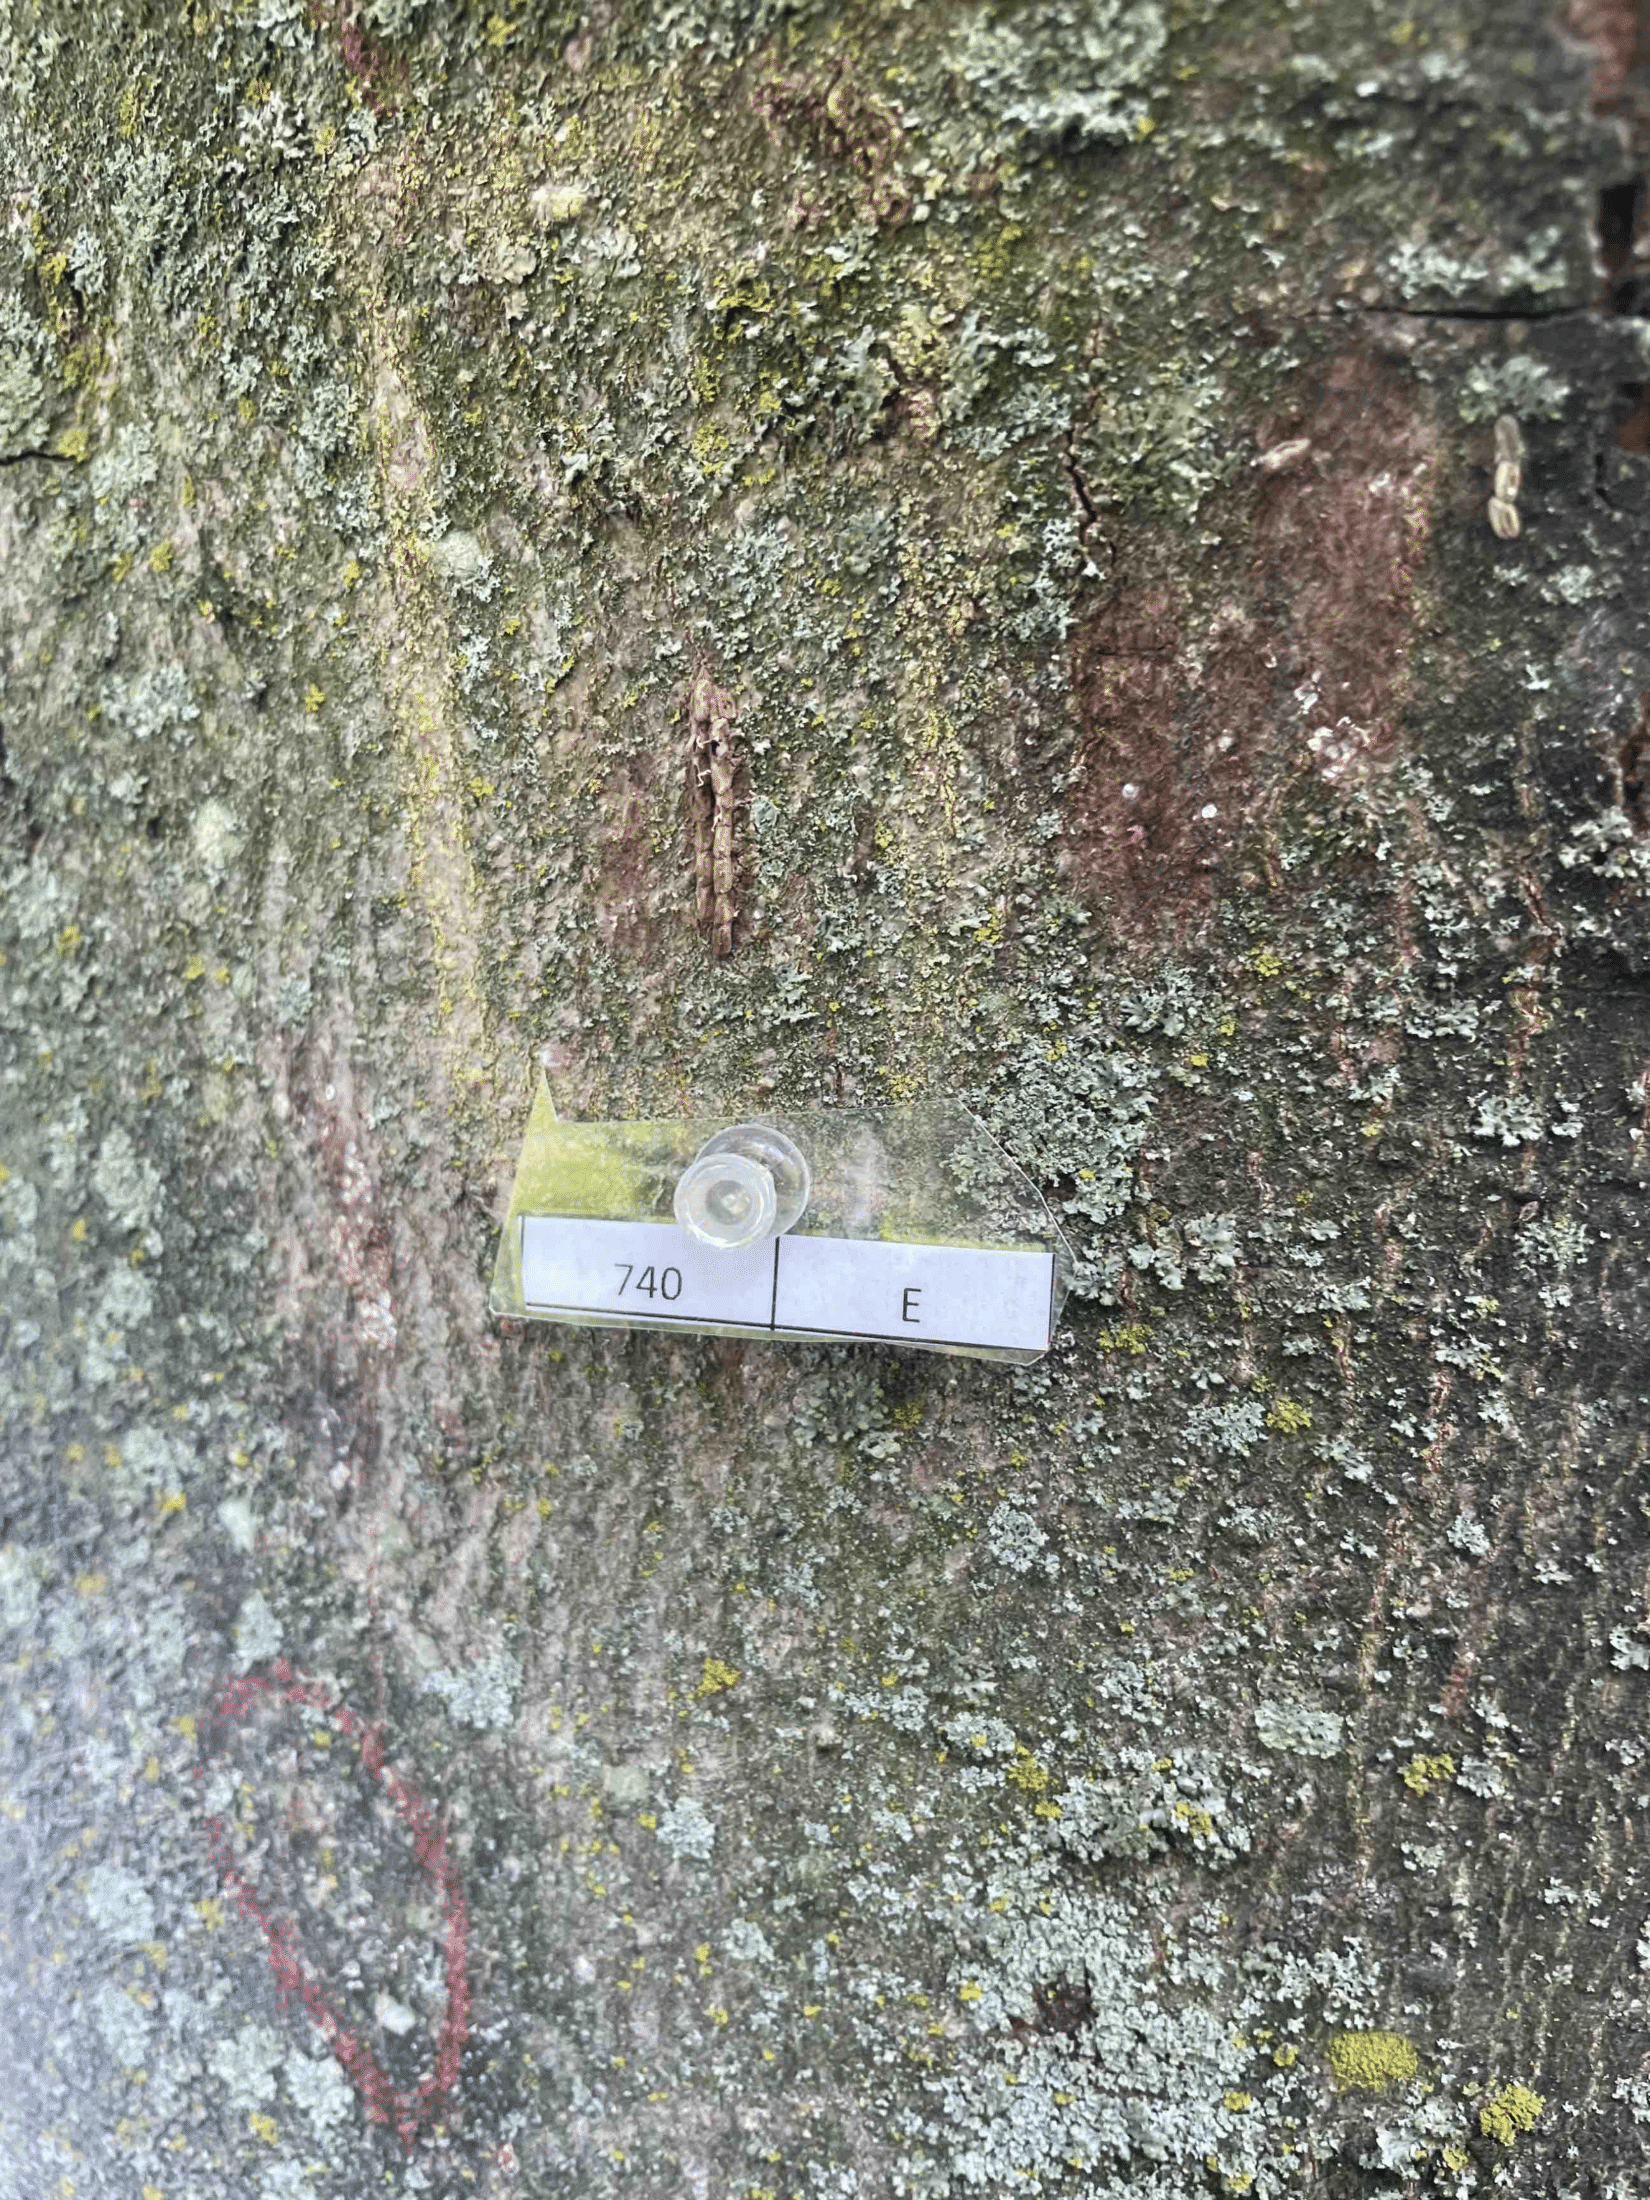egg masses: (620, 637, 804, 974), (1484, 404, 1530, 560)
